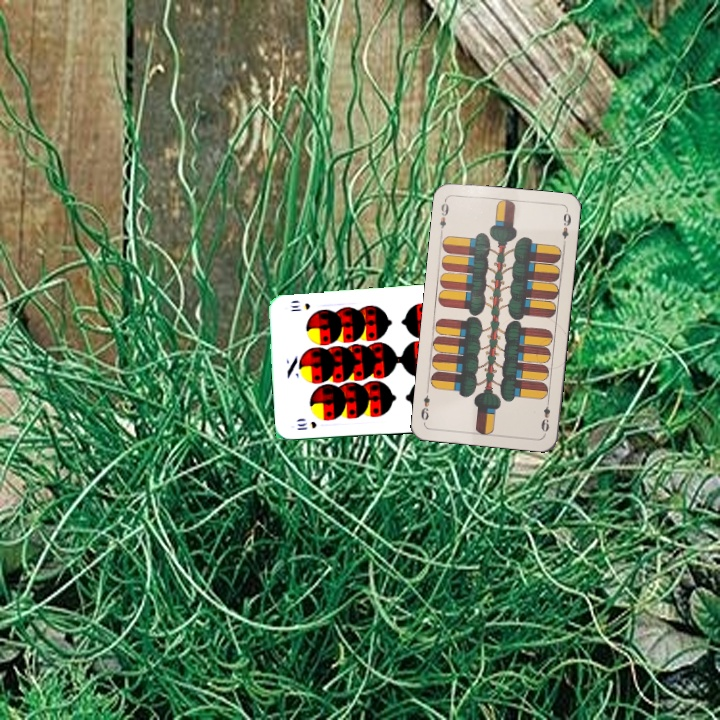E9: (435, 196, 452, 236), (537, 395, 553, 434)
S10: (293, 417, 319, 432)
